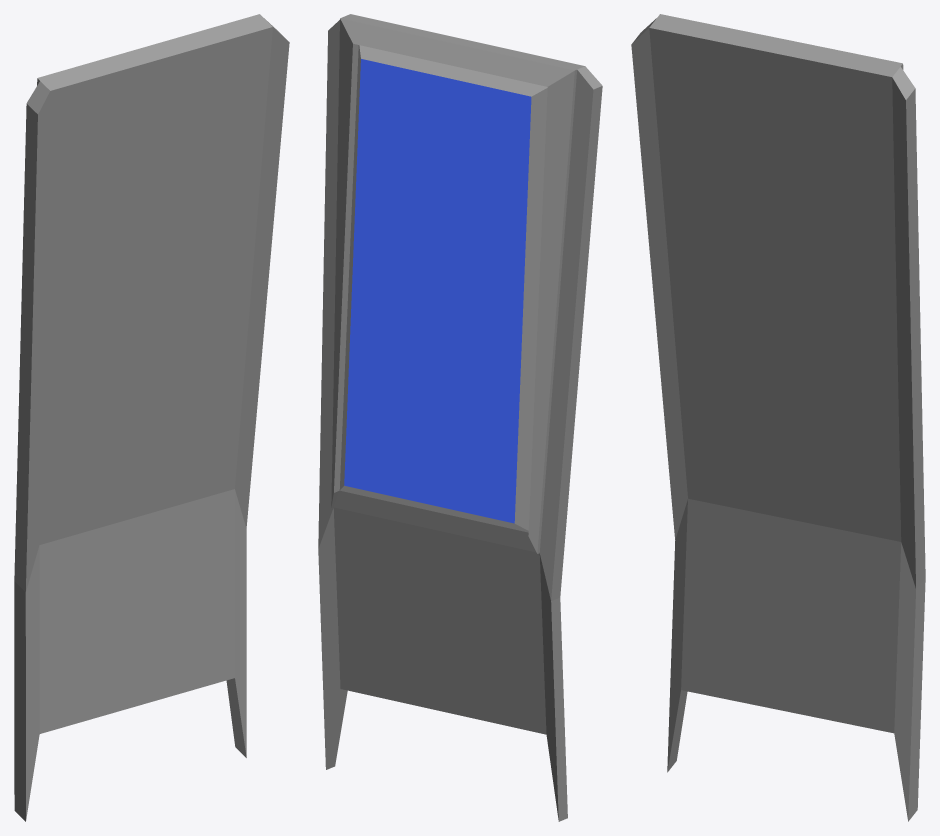
Rendered from panel.fbx.
3 renders of one model, left to right at view 1: azimuth 30°, elevation 25°; view 2: azimuth 150°, elevation 25°; view 3: azimuth 330°, elevation 25°, orthographic. The views are drawn at different scales.
Parts seen in each view (by area): view 1: panel; view 2: panel; view 3: panel.
Part boxes in pixels (x1,y1,x2,y2): panel: (14,14,289,821); panel: (318,14,602,821); panel: (631,14,925,821).
Size of the model in its own units: 268 by 737 by 90.22.
